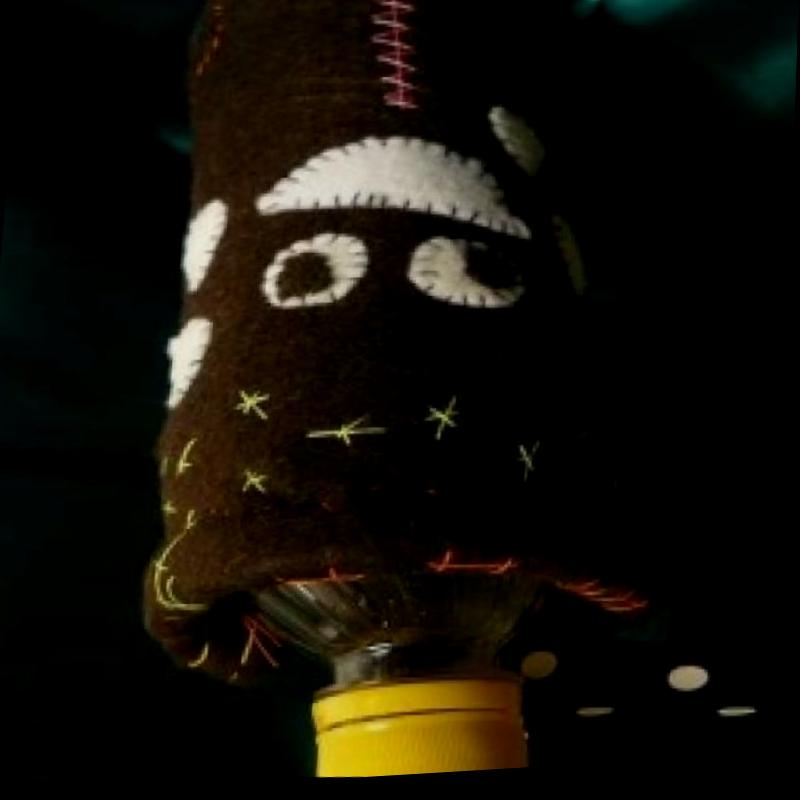botella: (241, 568, 562, 788)
